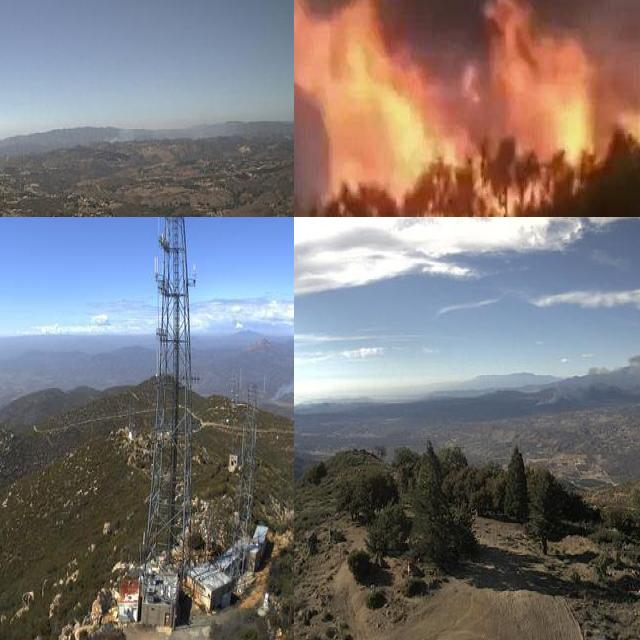fire: (294, 0, 596, 217)
smoke: (532, 347, 640, 409), (263, 342, 294, 398), (105, 122, 161, 145)
